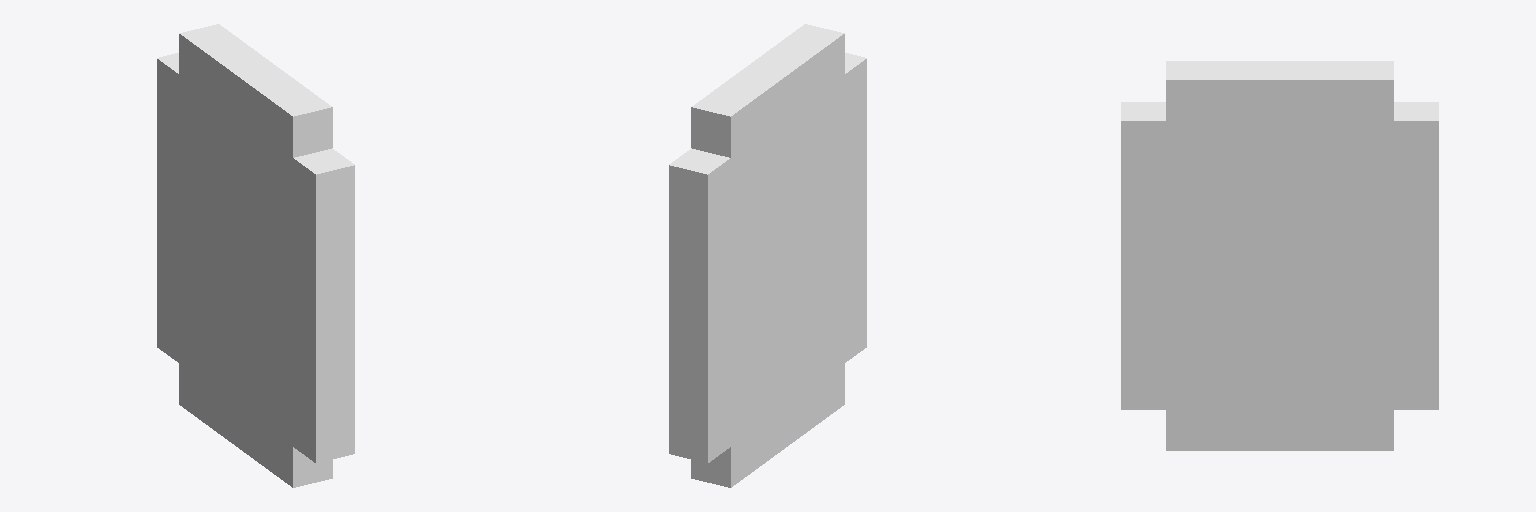
The model's file is IconCoin.obj.
3 views of the same model, side by side, from view 1: azimuth 30°, elevation 25°; view 2: azimuth 150°, elevation 25°; view 3: azimuth 270°, elevation 25° (orthographic).
Parts seen in each view (by area): view 1: object 1; view 2: object 1; view 3: object 1.
Boxes of the visible parts, box(x1,y1,x2,y2) form: object 1: box(157, 24, 354, 487); object 1: box(669, 24, 866, 487); object 1: box(1121, 61, 1438, 450).
Bounding box in the file's own units: 0.1 × 0.9 × 0.7.